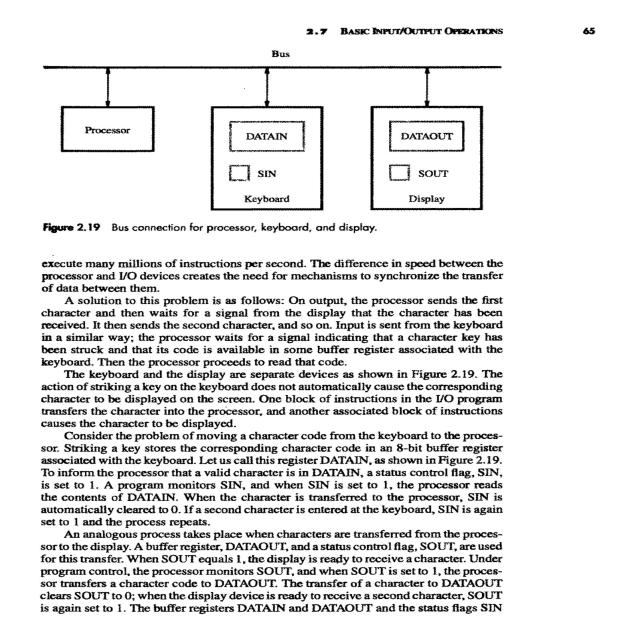diagram: (18, 42, 522, 250)
